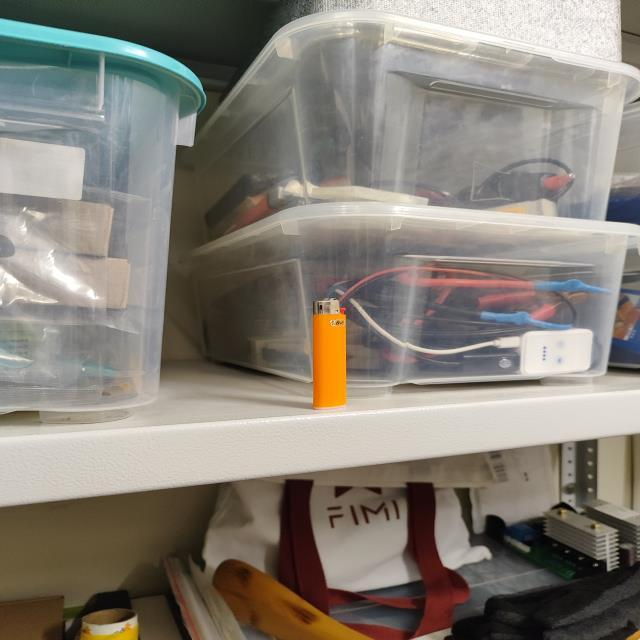lighter: (313, 298, 346, 407)
